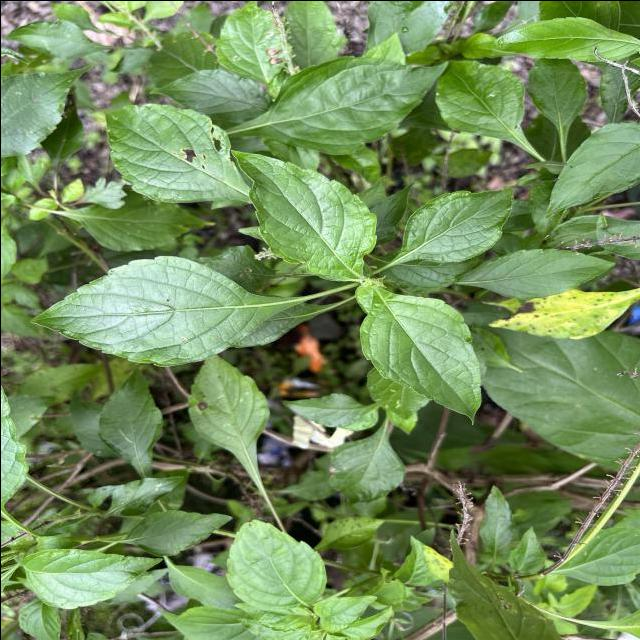Ocimum gratissimum: (27, 250, 308, 370), (232, 52, 449, 159), (225, 146, 378, 284), (356, 284, 484, 428), (97, 98, 254, 205), (184, 352, 274, 507), (221, 516, 330, 612), (542, 120, 640, 223), (16, 545, 163, 611), (454, 244, 618, 302), (474, 12, 640, 63), (94, 369, 166, 474), (325, 419, 409, 509)
